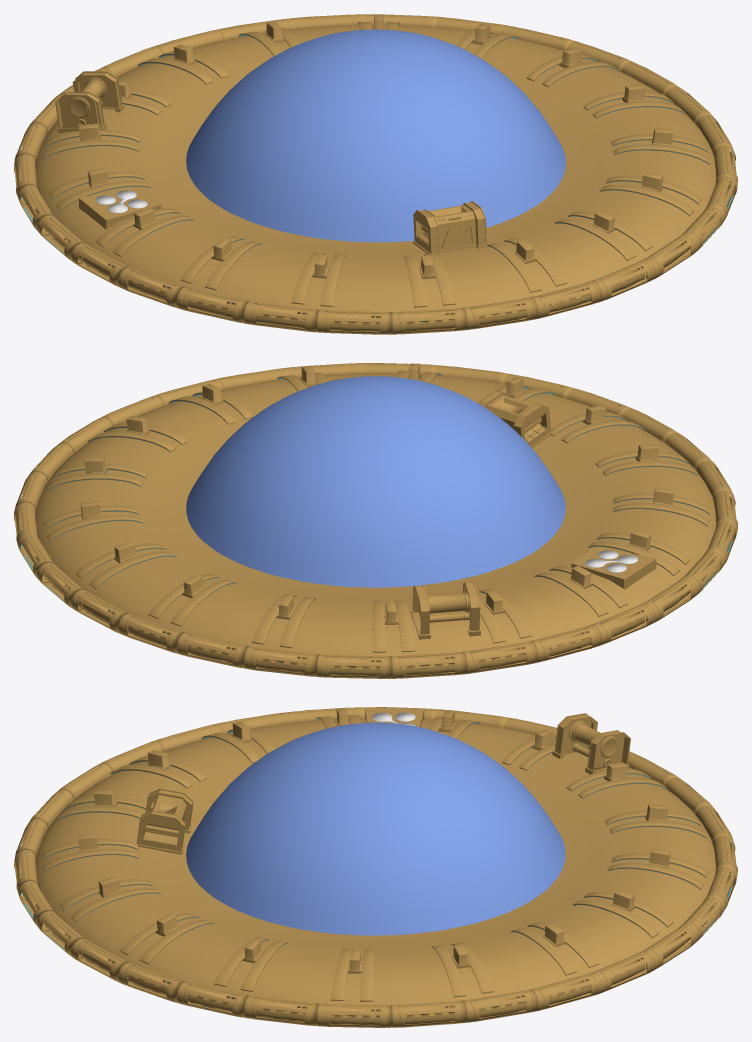
Rendered from UFO.fbx.
The picture shows the model from 3 angles, top to bottom: view 1: azimuth 30°, elevation 25°; view 2: azimuth 150°, elevation 25°; view 3: azimuth 270°, elevation 25°; orthographic projection.
Visible parts, largest first — view 1: Sphere; view 2: Sphere; view 3: Sphere.
Boxes of the visible parts, x1,y1,x2,y2 form: Sphere: (14, 14, 737, 334); Sphere: (14, 363, 737, 678); Sphere: (14, 707, 737, 1027).
Size of the model in its own units: 336 by 78.04 by 336.
